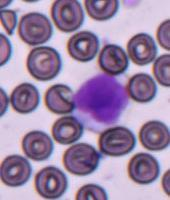M: (70, 71, 130, 130)
